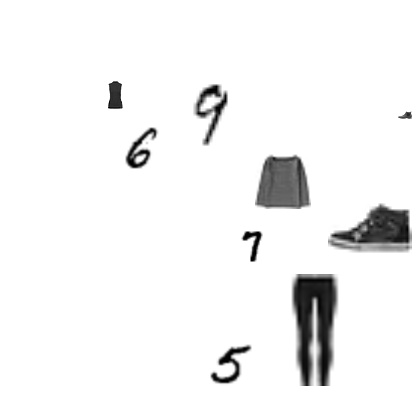5: (201, 335, 257, 391)
6: (110, 122, 166, 178)
7: (231, 221, 273, 263)
9: (167, 64, 251, 148)
Ankle_boot: (398, 108, 412, 122)
Sneaker: (328, 186, 412, 270)
T-shirt/top: (255, 153, 311, 209), (101, 81, 129, 109)
Trouser: (257, 274, 369, 386)
